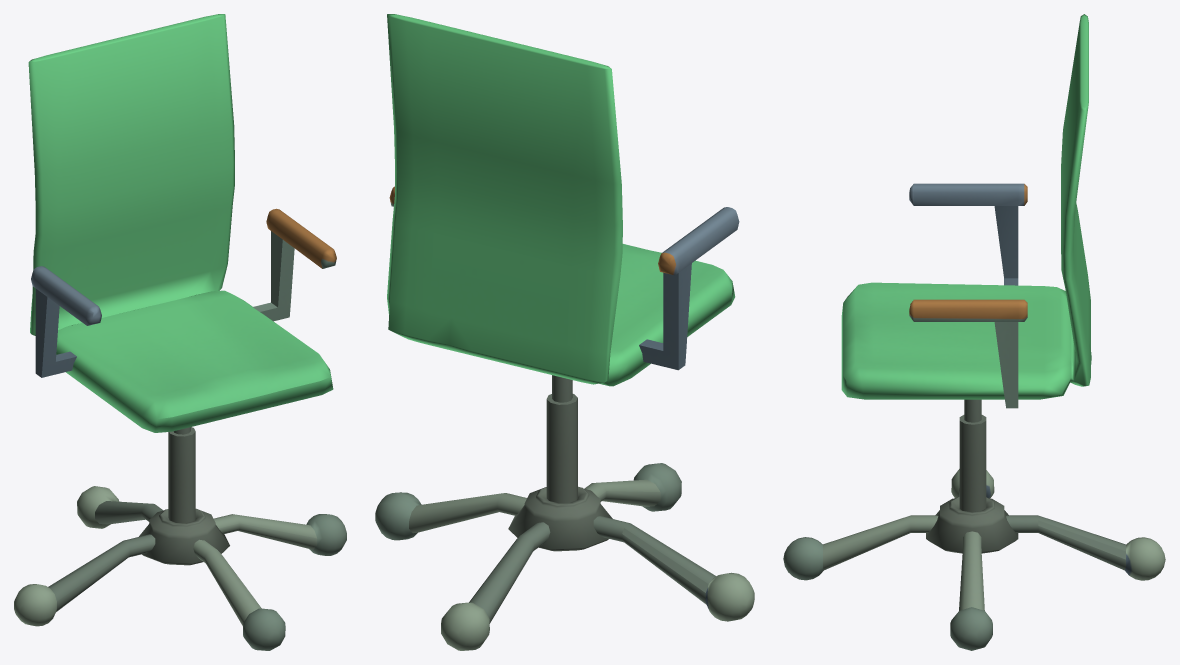
The model's file is officechair_red.fbx.
3 renders of one model, left to right at view 1: azimuth 30°, elevation 25°; view 2: azimuth 150°, elevation 25°; view 3: azimuth 270°, elevation 25°, orthographic. The views are drawn at different scales.
Visible parts, largest first — view 1: pCube1, pCube2, pSphere6, pSphere5, group1pTorus1, pCylinder9; view 2: pCube1, pSphere6, pSphere5, pCube2, group1pTorus1, pCylinder9; view 3: pCube1, pCube2, pSphere5, pSphere6, group1pTorus1, pCylinder9.
Part boxes in pixels (x1,y1,x2,y2): pCube1: (28,14,333,432); pCube2: (31,208,336,377); pSphere6: (14,514,346,626); pSphere5: (77,486,285,650); group1pTorus1: (139,508,229,565); pCylinder9: (168,427,195,523); pCube1: (387,14,735,386); pSphere6: (375,492,754,621); pSphere5: (441,463,681,650); pCube2: (389,186,739,370); group1pTorus1: (508,486,612,551); pCylinder9: (546,375,577,503); pCube1: (841,14,1091,399); pCube2: (909,183,1027,408); pSphere5: (783,515,1165,580); pSphere6: (950,469,994,650); group1pTorus1: (926,496,1018,553); pCylinder9: (959,399,986,512).
Size of the model in its own units: 25.13 by 37.53 by 25.13.
